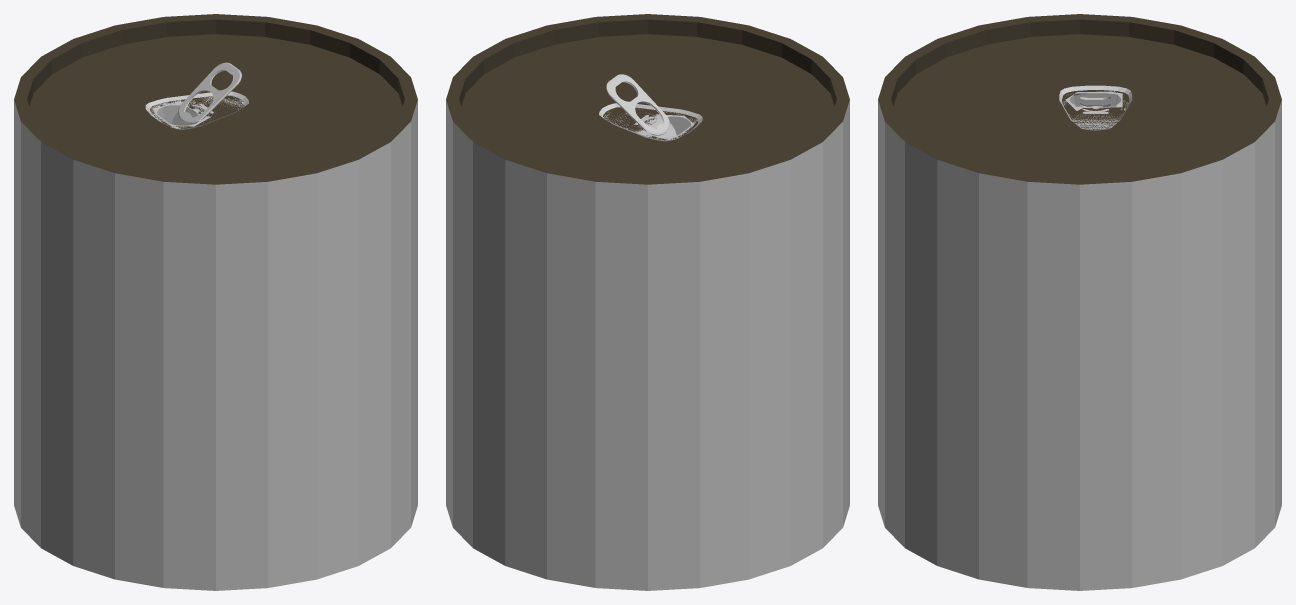
The picture shows the model from 3 angles, left to right: view 1: azimuth 30°, elevation 25°; view 2: azimuth 150°, elevation 25°; view 3: azimuth 270°, elevation 25°; orthographic projection.
Visible parts, largest first — view 1: mesh5.001_mesh5-geometry, mesh3.003_mesh3-geometry, mesh2.004_mesh2-geometry; view 2: mesh5.001_mesh5-geometry, mesh2.004_mesh2-geometry, mesh3.003_mesh3-geometry; view 3: mesh5.001_mesh5-geometry, mesh3.003_mesh3-geometry, mesh2.004_mesh2-geometry.
Boxes of the visible parts, x1,y1,x2,y2 form: mesh5.001_mesh5-geometry: [14, 14, 417, 590]; mesh3.003_mesh3-geometry: [145, 91, 249, 129]; mesh2.004_mesh2-geometry: [178, 62, 241, 123]; mesh5.001_mesh5-geometry: [446, 14, 849, 590]; mesh2.004_mesh2-geometry: [606, 74, 669, 135]; mesh3.003_mesh3-geometry: [599, 103, 702, 141]; mesh5.001_mesh5-geometry: [878, 14, 1281, 590]; mesh3.003_mesh3-geometry: [1059, 85, 1132, 130]; mesh2.004_mesh2-geometry: [1073, 92, 1118, 107].
Size of the model in its own units: 0.5458 by 0.6357 by 0.5458.
